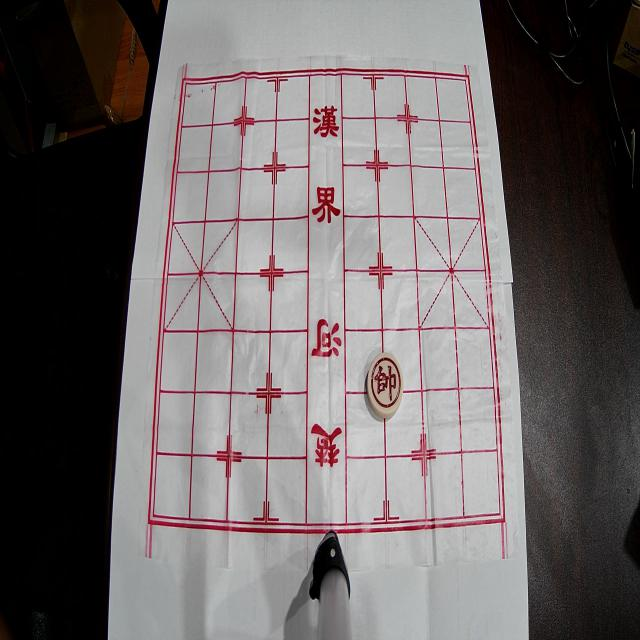red-general: (368, 353, 403, 418)
